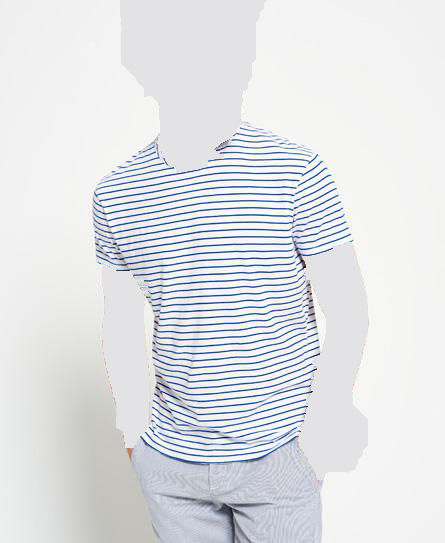teeshirt: (86, 122, 352, 452)
